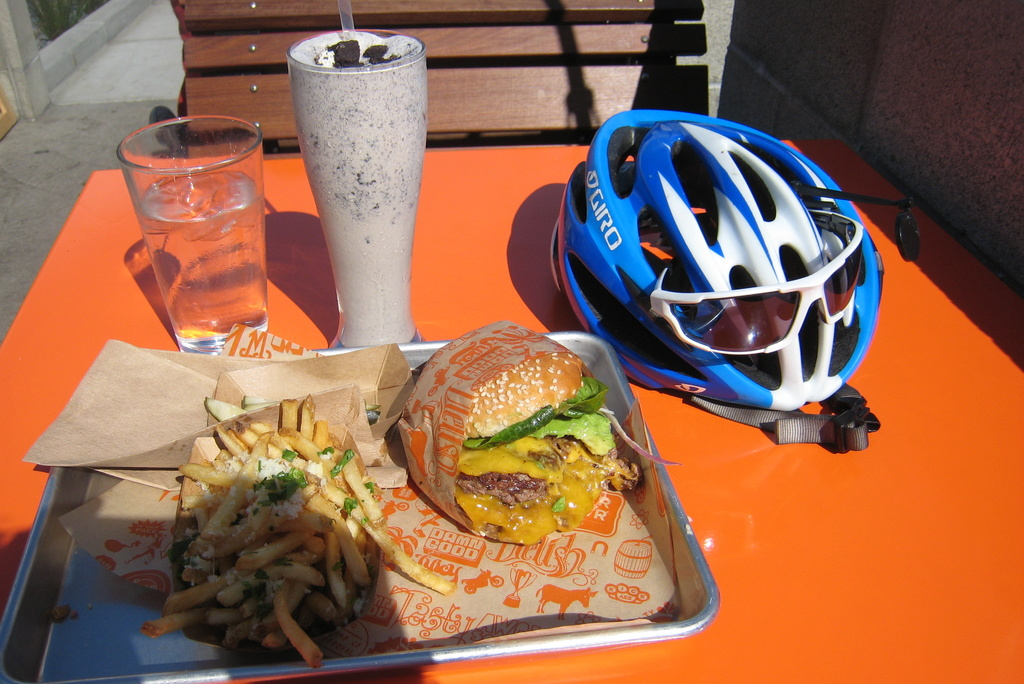Hamburger: (452, 354, 678, 545)
